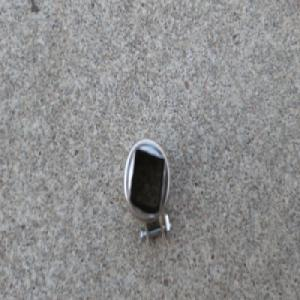MetalPart: (122, 136, 173, 255)
